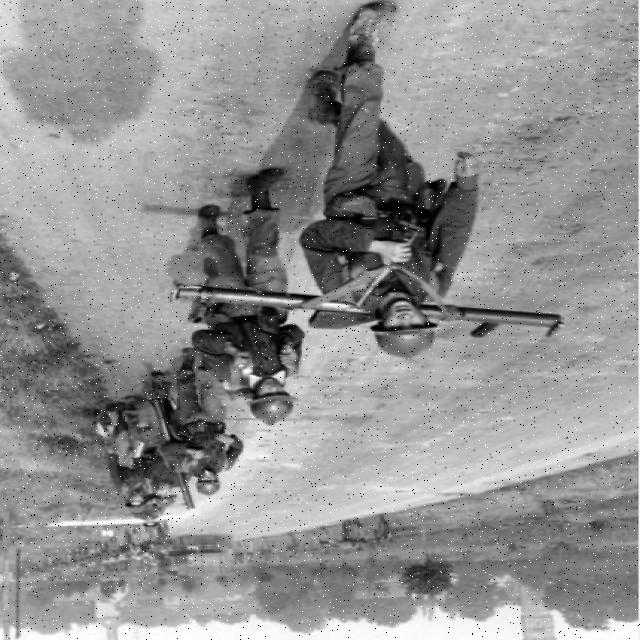bazooka: (175, 266, 576, 343)
